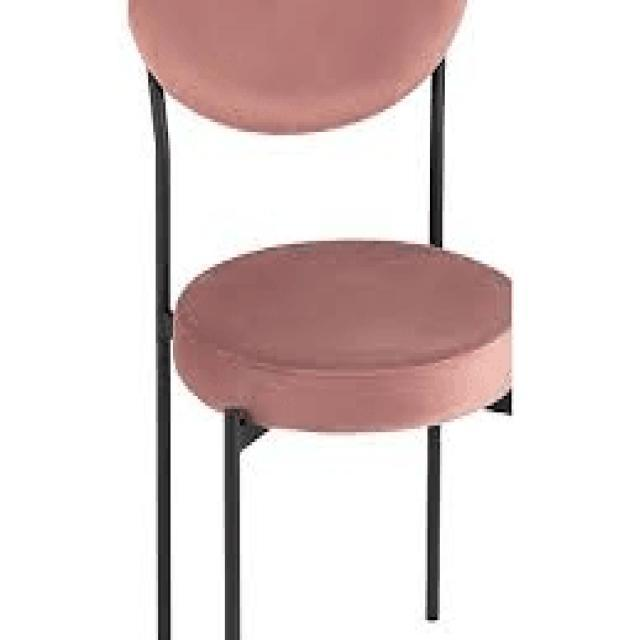chair: (116, 0, 514, 640), (128, 0, 510, 439)
